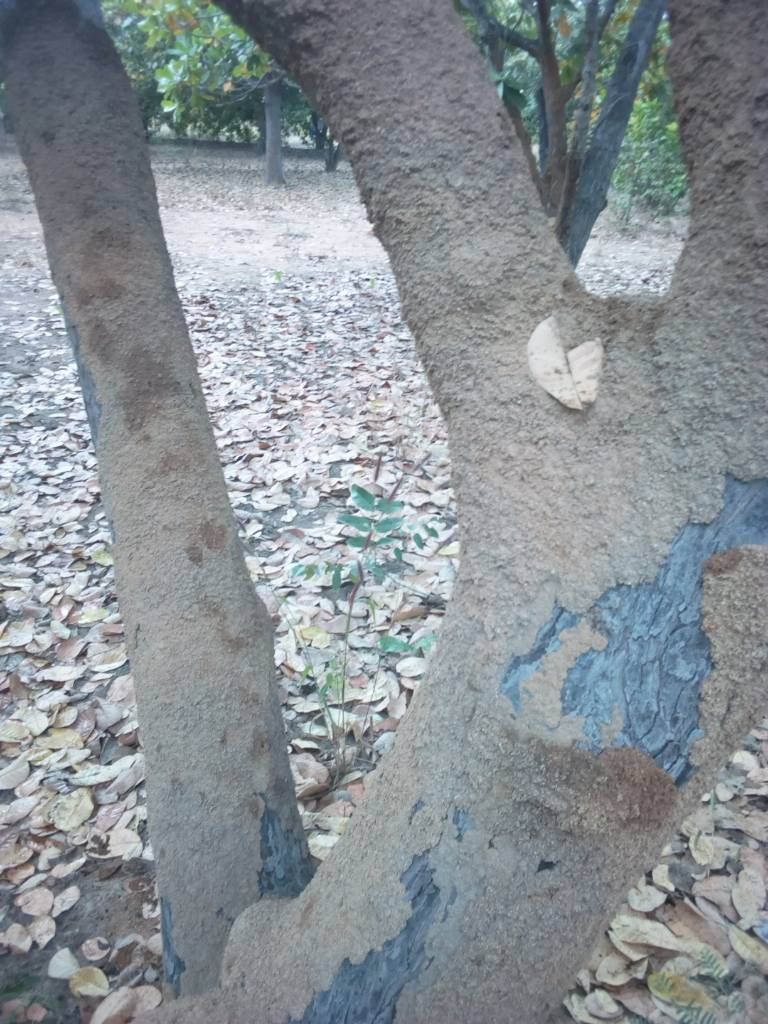Virose: (370, 14, 761, 999), (7, 27, 300, 982)
